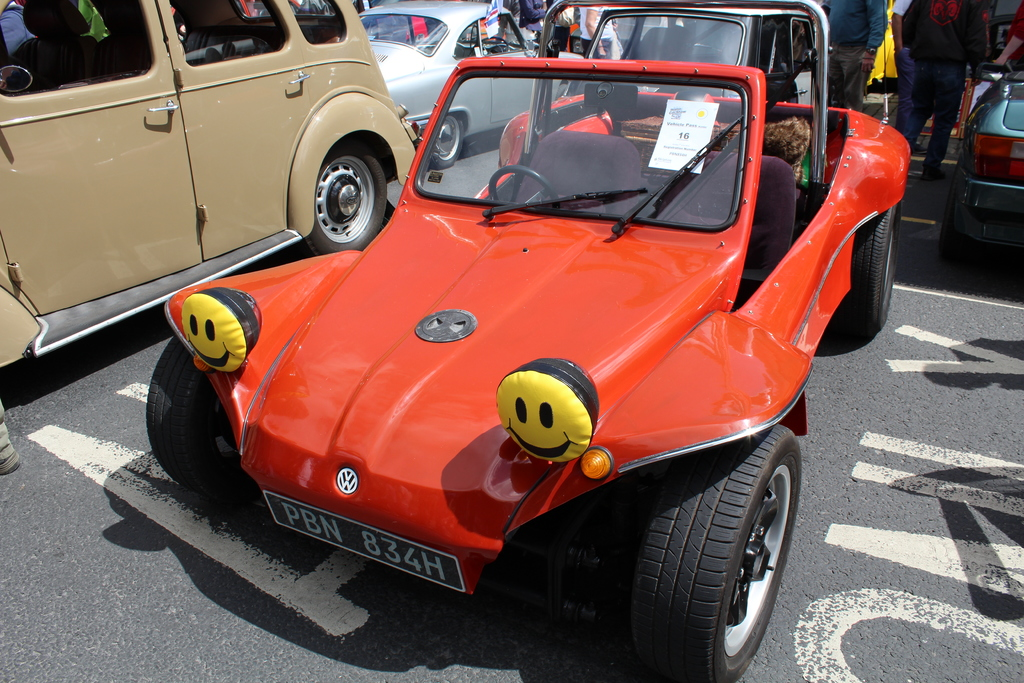Car: (0, 0, 420, 367), (356, 0, 584, 168), (937, 66, 1022, 269)
